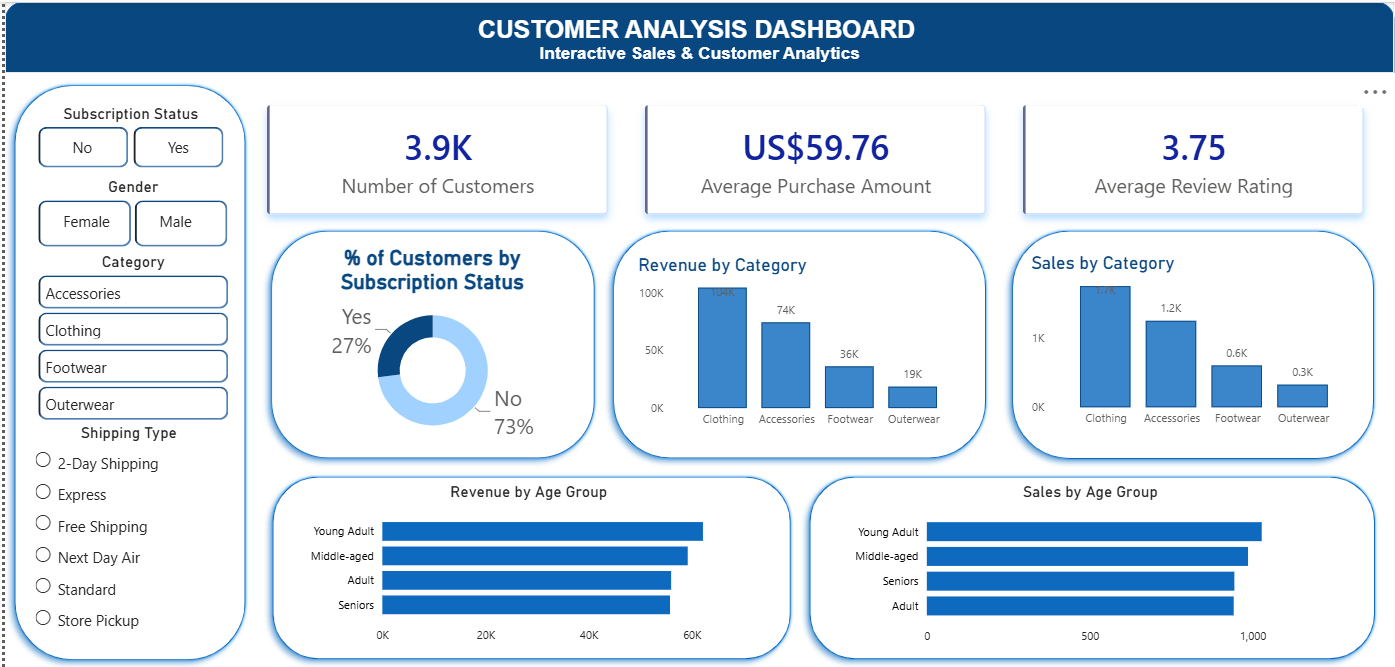

This screenshot's page, from the dashboard's own definition file:
{"tool":"powerbi","page":{"name":"Page 1","canvas":[1500,720],"ordinal":0},"visuals":[{"type":"cardVisual","fields":{"Data":["customer_behavior customer.Number of Customers","customer_behavior customer.Average Purchase Amount","customer_behavior customer.Average Review Rating"]},"box":[250,78,1250,184],"z":0},{"type":"shape","box":[646.7,236.7,423.3,266.7],"z":1000},{"type":"shape","box":[276.7,236.7,370,266.7],"z":2000},{"type":"shape","box":[0,0,1500,76.7],"z":3000},{"type":"textbox","box":[0,10,1500,67.1],"z":4000},{"type":"donutChart","title":"% of Customers by Subscription Status","fields":{"Category":["customer_behavior customer.subscription_status"],"Y":["CountNonNull(customer_behavior customer.customer_id)"]},"box":[318,262,288,218],"z":5000},{"type":"clusteredColumnChart","title":"Revenue by Category","fields":{"Y":["Sum(customer_behavior customer.purchase_amount)"],"Category":["customer_behavior customer.category"]},"box":[678,272,362,196],"z":6000},{"type":"shape","box":[1077,236.1,411.5,267.2],"z":7000},{"type":"clusteredColumnChart","title":"Sales by Category","fields":{"Y":["CountNonNull(customer_behavior customer.customer_id)"],"Category":["customer_behavior customer.category"]},"box":[1103.3,270.5,360.7,196.7],"z":8000},{"type":"shape","box":[0,78.6,270,641.4],"z":9000},{"type":"advancedSlicerVisual","title":"Subscription Status","fields":{"Values":["customer_behavior customer.subscription_status"]},"box":[31.4,110,210,74.3],"z":10000},{"type":"advancedSlicerVisual","title":"Gender","fields":{"Values":["customer_behavior customer.gender"]},"box":[31.4,190,215.7,80],"z":11000},{"type":"advancedSlicerVisual","title":"Category","fields":{"Values":["customer_behavior customer.category"]},"box":[30,270,215.7,185.7],"z":12000},{"type":"listSlicer","title":"Shipping Type","fields":{"Values":["customer_behavior customer.shipping_type"]},"box":[25.7,455.7,215.7,231.4],"z":13000},{"type":"shape","box":[277.8,502.2,580,217.8],"z":14000},{"type":"clusteredBarChart","title":"Revenue by Age Group","fields":{"Y":["Sum(customer_behavior customer.purchase_amount)"],"Category":["customer_behavior customer.age_group"]},"box":[318.6,518.6,492.9,182.9],"z":15000},{"type":"shape","box":[857.8,502.2,631.1,217.8],"z":16000},{"type":"clusteredBarChart","title":"Sales by Age Group","fields":{"Category":["customer_behavior customer.age_group"],"Y":["CountNonNull(customer_behavior customer.customer_id)"]},"box":[907.1,518.6,530,184.3],"z":17000}]}

Visuals, with their boxes in screenshot pixels (x1, y1, x2, y2), scaled from the page's 1500x720 canvas onto the 1395x667 screenshot:
cardVisual - customer_behavior customer.Number of Customers x customer_behavior customer.Average Purchase Amount: {"left": 232, "top": 72, "right": 1394, "bottom": 243}
shape: {"left": 601, "top": 219, "right": 995, "bottom": 466}
shape: {"left": 257, "top": 219, "right": 601, "bottom": 466}
shape: {"left": 0, "top": 0, "right": 1394, "bottom": 71}
textbox: {"left": 0, "top": 9, "right": 1394, "bottom": 71}
"% of Customers by Subscription Status" donutChart: {"left": 296, "top": 243, "right": 564, "bottom": 445}
"Revenue by Category" clusteredColumnChart: {"left": 631, "top": 252, "right": 967, "bottom": 434}
shape: {"left": 1002, "top": 219, "right": 1384, "bottom": 466}
"Sales by Category" clusteredColumnChart: {"left": 1026, "top": 251, "right": 1362, "bottom": 433}
shape: {"left": 0, "top": 73, "right": 251, "bottom": 666}
"Subscription Status" advancedSlicerVisual: {"left": 29, "top": 102, "right": 225, "bottom": 171}
"Gender" advancedSlicerVisual: {"left": 29, "top": 176, "right": 230, "bottom": 250}
"Category" advancedSlicerVisual: {"left": 28, "top": 250, "right": 229, "bottom": 422}
"Shipping Type" listSlicer: {"left": 24, "top": 422, "right": 225, "bottom": 637}
shape: {"left": 258, "top": 465, "right": 798, "bottom": 666}
"Revenue by Age Group" clusteredBarChart: {"left": 296, "top": 480, "right": 755, "bottom": 650}
shape: {"left": 798, "top": 465, "right": 1385, "bottom": 666}
"Sales by Age Group" clusteredBarChart: {"left": 844, "top": 480, "right": 1337, "bottom": 651}
